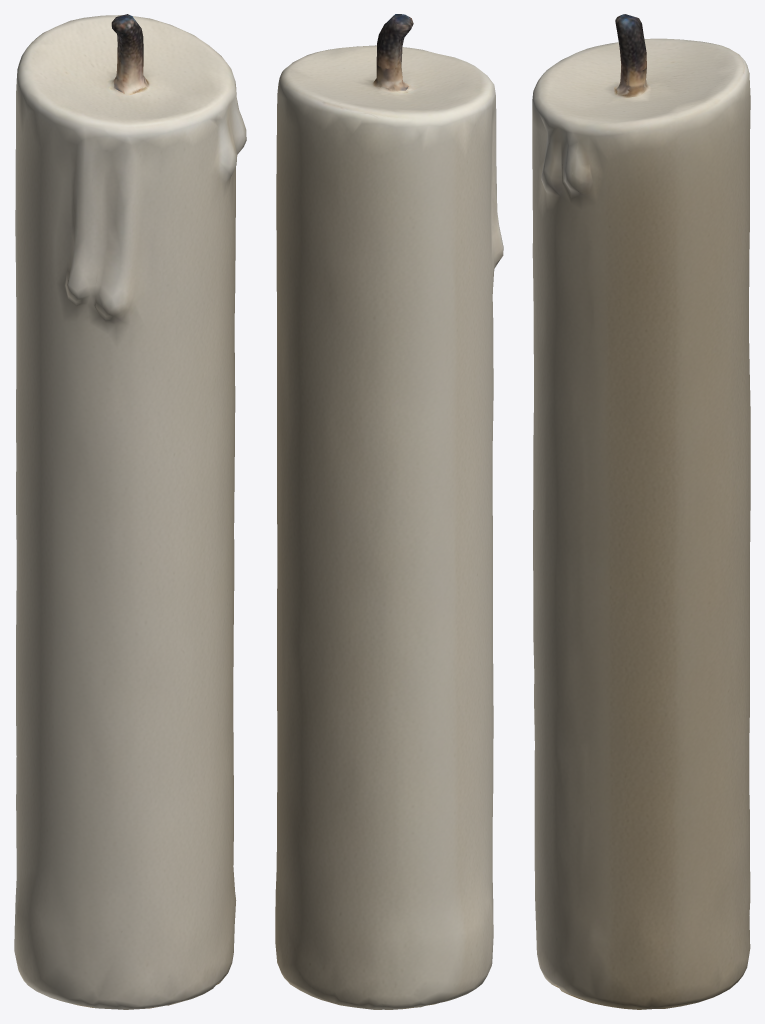
File: Candle.fbx
3 views of the same model, side by side, from view 1: azimuth 30°, elevation 25°; view 2: azimuth 150°, elevation 25°; view 3: azimuth 270°, elevation 25° (orthographic).
Parts seen in each view (by area): view 1: material_0; view 2: material_0; view 3: material_0.
Part boxes in pixels (<box>): material_0: <box>14,14,246,1009</box>; material_0: <box>275,14,503,1009</box>; material_0: <box>532,14,750,1009</box>.
Bounding box in the file's own units: 21.39 × 100 × 20.9.
1 material, 1 textured.
